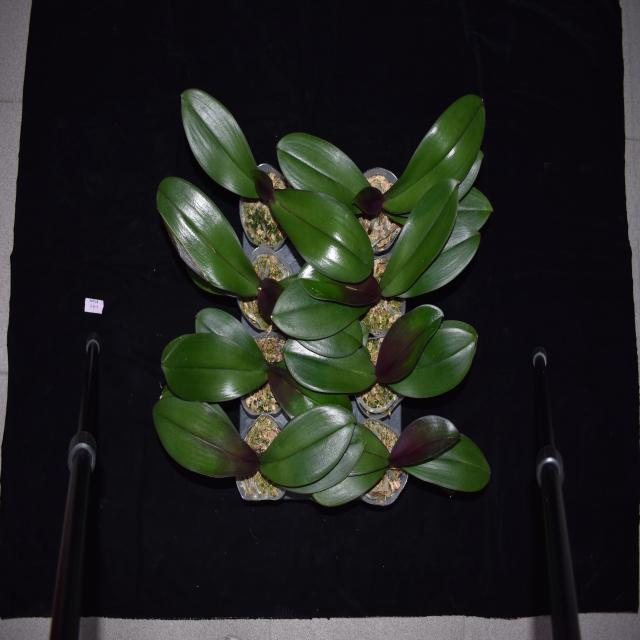leaf: (384, 84, 493, 212), (155, 175, 260, 301), (386, 171, 459, 301), (174, 83, 255, 199), (147, 396, 257, 481), (276, 187, 374, 278), (274, 124, 372, 209), (384, 315, 480, 398), (258, 407, 358, 483), (161, 332, 269, 401), (399, 219, 485, 301), (267, 427, 365, 491), (394, 427, 490, 492), (374, 302, 447, 387), (270, 280, 376, 338), (263, 358, 355, 422), (283, 336, 380, 391), (293, 259, 389, 309), (391, 418, 462, 474), (192, 306, 266, 358), (289, 314, 366, 357), (305, 474, 396, 507), (351, 421, 391, 474), (459, 178, 498, 227), (456, 137, 486, 196), (252, 162, 275, 209), (351, 187, 381, 215)
